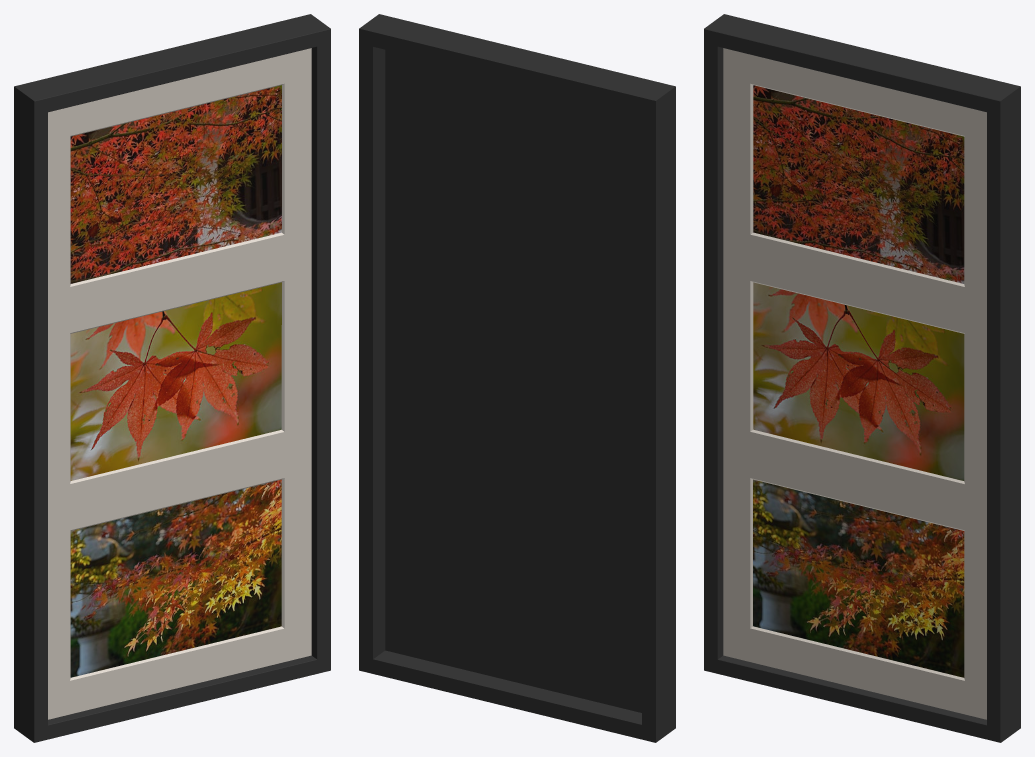
File: frame3HorizontalMomijiPhotos.obj
3 renders of one model, left to right at view 1: azimuth 30°, elevation 25°; view 2: azimuth 150°, elevation 25°; view 3: azimuth 330°, elevation 25°, orthographic.
Parts seen in each view (by area): view 1: Inner_frame_Cube.003, Frame_Cube.001, Photo1_Plane.001, Photo2_Plane, Photo3_Plane.002; view 2: Frame_Cube.001; view 3: Inner_frame_Cube.003, Frame_Cube.001, Photo1_Plane.001, Photo2_Plane, Photo3_Plane.002.
Part boxes in pixels (bbox=[...]): Inner_frame_Cube.003: bbox=[48, 48, 311, 719]; Frame_Cube.001: bbox=[14, 14, 330, 742]; Photo1_Plane.001: bbox=[70, 85, 281, 283]; Photo2_Plane: bbox=[70, 282, 281, 480]; Photo3_Plane.002: bbox=[70, 479, 281, 677]; Frame_Cube.001: bbox=[359, 14, 675, 742]; Inner_frame_Cube.003: bbox=[723, 48, 986, 719]; Frame_Cube.001: bbox=[704, 14, 1020, 742]; Photo1_Plane.001: bbox=[753, 85, 964, 283]; Photo2_Plane: bbox=[753, 282, 964, 480]; Photo3_Plane.002: bbox=[753, 479, 964, 677].
Bounding box in the file's own units: 25.4 × 52.5 × 3.
Materials: 5 (3 with a texture image).
